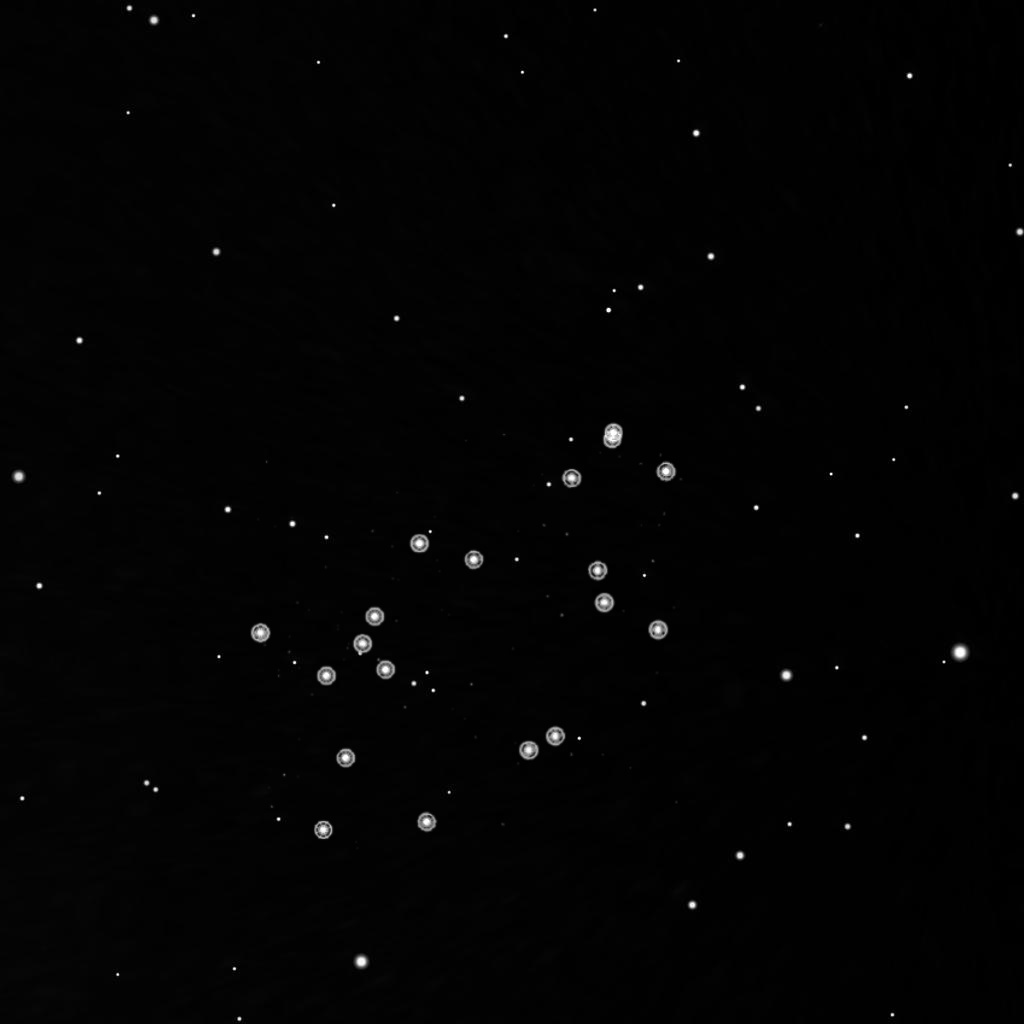canis_major: (304, 528, 493, 696)
